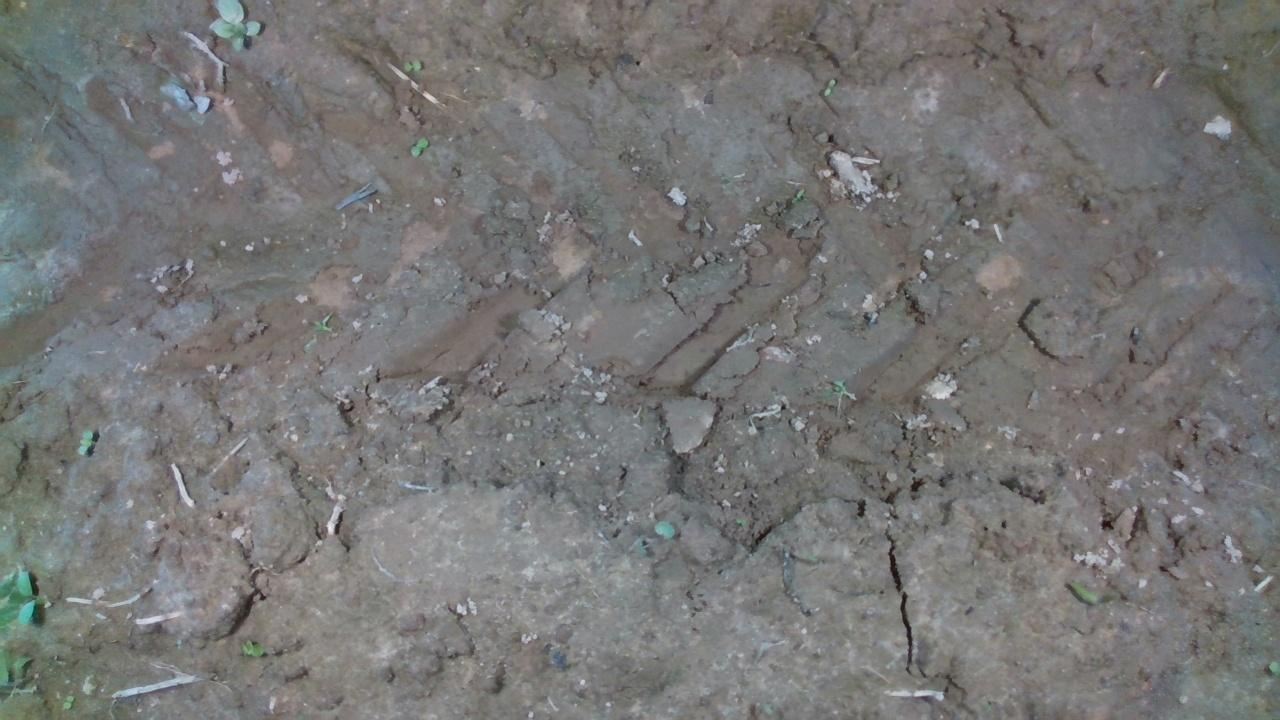weed: (75, 426, 93, 456), (408, 136, 428, 157), (401, 56, 421, 71), (822, 76, 836, 96), (787, 187, 804, 203)
